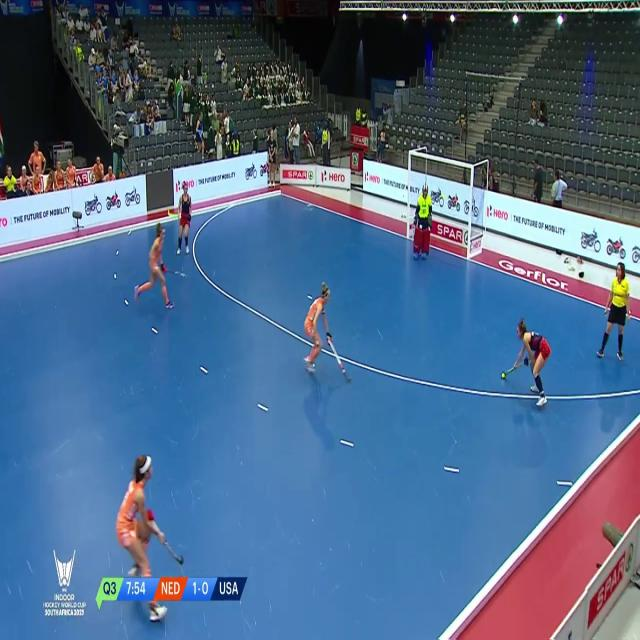ball: (498, 366, 508, 387)
